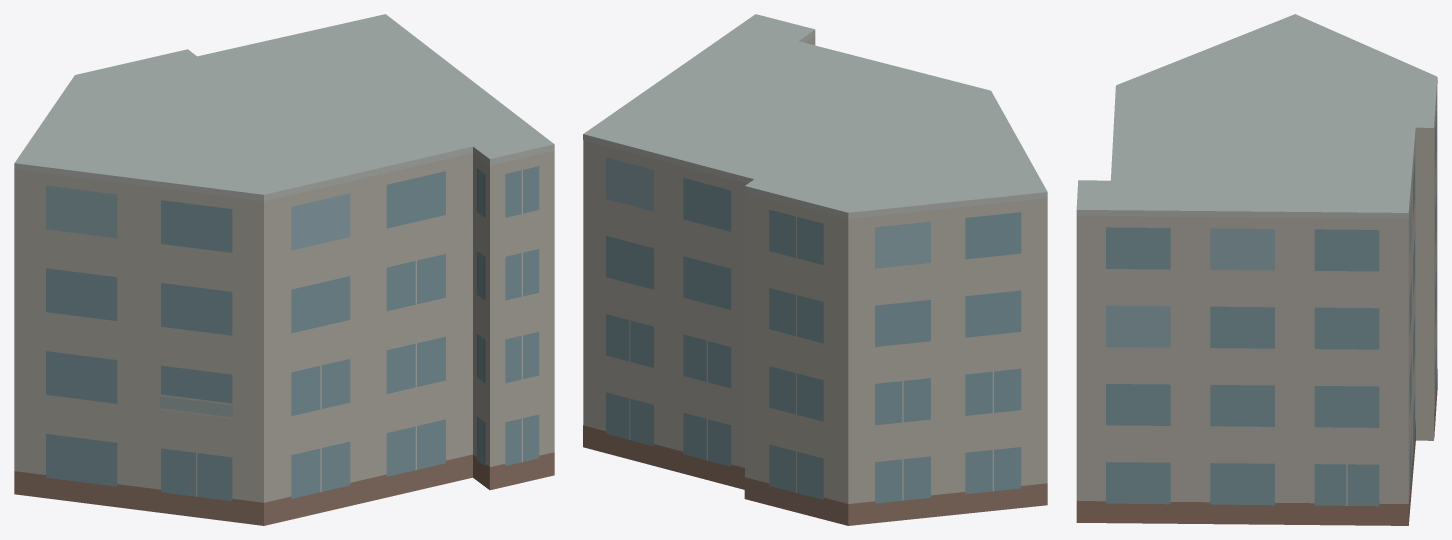
File: survey-upis-32709259.glb
3 views of the same model, side by side, from view 1: azimuth 30°, elevation 25°; view 2: azimuth 150°, elevation 25°; view 3: azimuth 270°, elevation 25° (orthographic). The views are drawn at different scales.
Parts seen in each view (by area): view 1: survey-upis-32709259.tmp; view 2: survey-upis-32709259.tmp; view 3: survey-upis-32709259.tmp.
Boxes of the visible parts, <box> form: survey-upis-32709259.tmp: <box>14,14,554,525</box>; survey-upis-32709259.tmp: <box>583,14,1047,525</box>; survey-upis-32709259.tmp: <box>1076,14,1437,525</box>.
Size of the model in its own units: 17.19 by 12.6 by 13.18.
